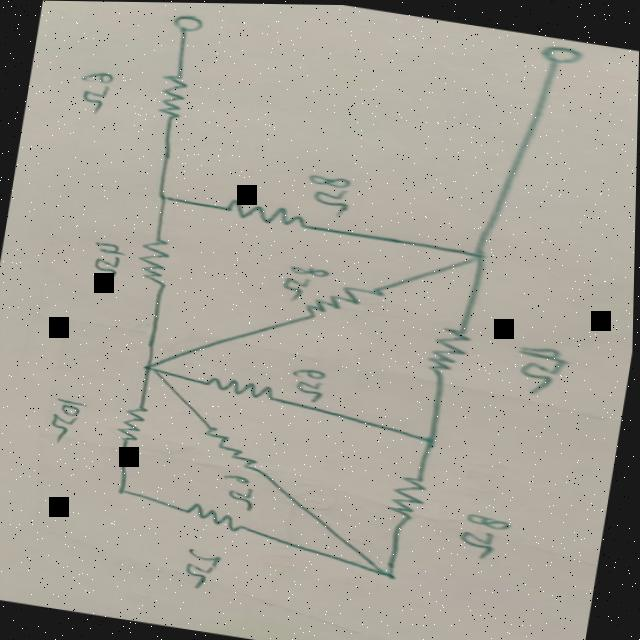junction: (146, 189, 183, 206), (457, 246, 490, 261), (409, 430, 442, 445), (110, 483, 137, 497), (378, 568, 406, 581), (136, 360, 160, 374)
resistor: (192, 422, 274, 474), (297, 278, 383, 324), (215, 195, 316, 229), (420, 322, 472, 377), (381, 469, 431, 521), (128, 232, 175, 285), (196, 372, 281, 401), (180, 500, 247, 531), (152, 69, 191, 119), (111, 400, 153, 445)
terminal: (537, 40, 582, 67), (167, 12, 205, 35)
text: (505, 339, 572, 398), (453, 509, 512, 562), (297, 171, 355, 219), (46, 396, 88, 446), (180, 547, 226, 591), (213, 470, 261, 512), (278, 262, 327, 303), (72, 68, 113, 116), (86, 239, 124, 283), (286, 366, 330, 403)
